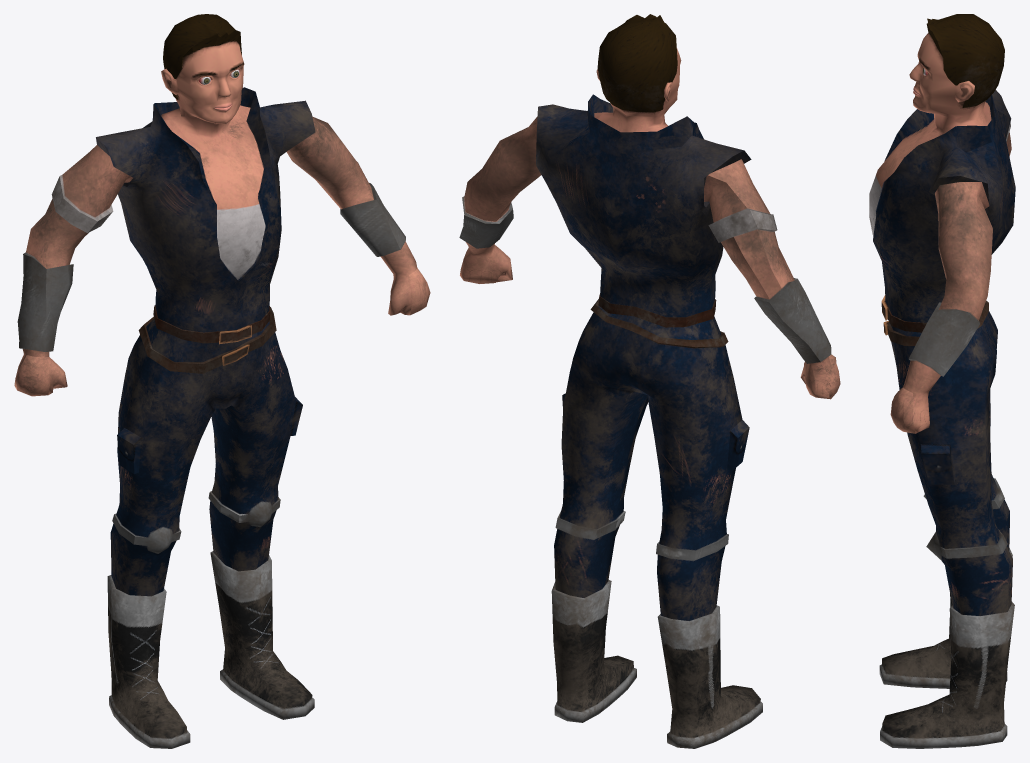
Rendered from Anim_idle_jugador.0024.obj.
The picture shows the model from 3 angles, left to right: view 1: azimuth 30°, elevation 25°; view 2: azimuth 150°, elevation 25°; view 3: azimuth 270°, elevation 25°; orthographic projection.
Parts seen in each view (by area): view 1: polySurface1; view 2: polySurface1; view 3: polySurface1.
Boxes of the visible parts, <box> form: polySurface1: <box>14,14,430,748</box>; polySurface1: <box>459,14,840,748</box>; polySurface1: <box>869,14,1015,748</box>.
Bounding box in the file's own units: 5.75 × 9.66 × 1.85.
